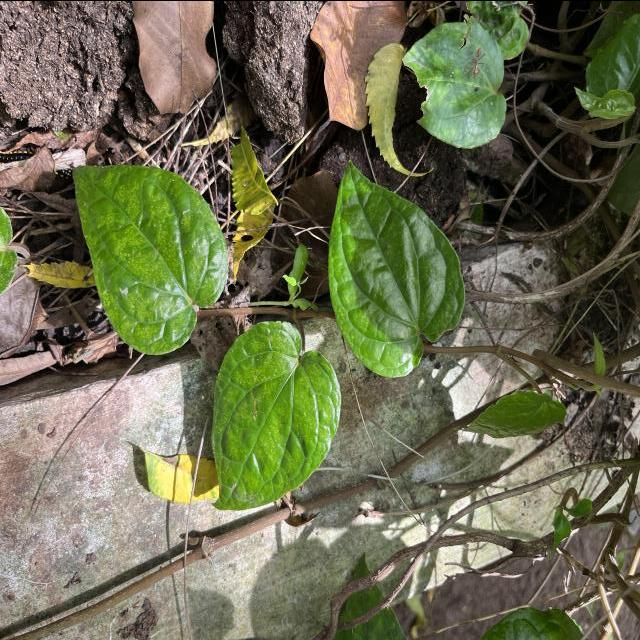Piper betle: (326, 158, 468, 379), (71, 162, 230, 356), (209, 318, 344, 512)
